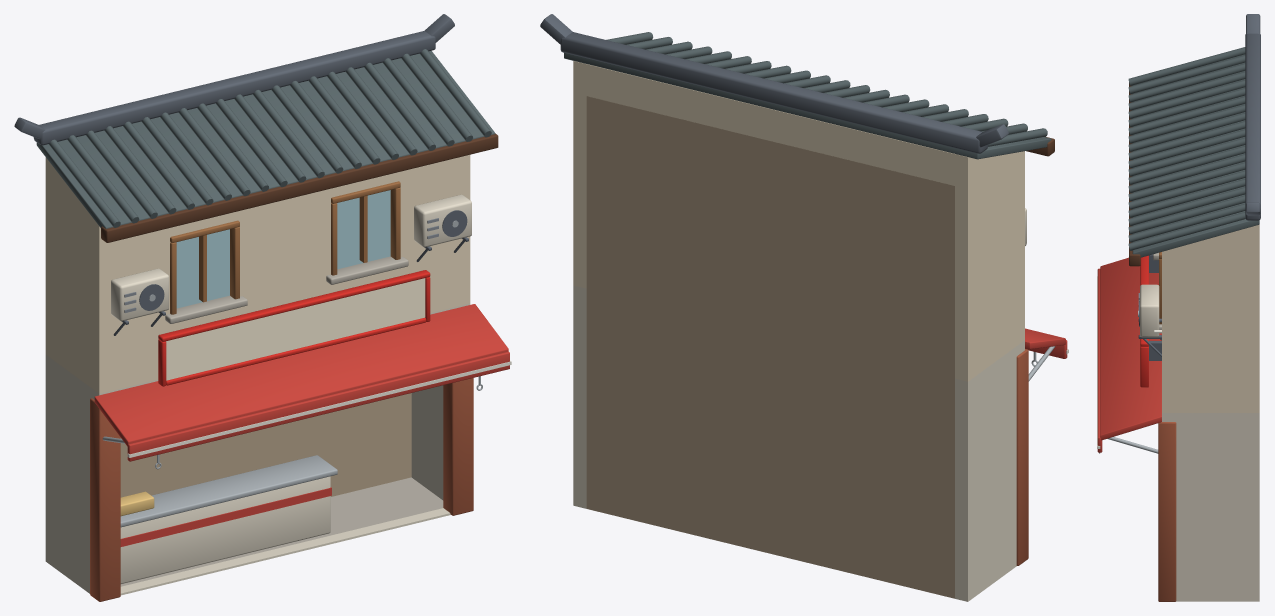
File: noodle_shop.glb
The picture shows the model from 3 angles, left to right: view 1: azimuth 30°, elevation 25°; view 2: azimuth 150°, elevation 25°; view 3: azimuth 270°, elevation 25°; orthographic projection. The views are drawn at different scales.
Parts seen in each view (by area): view 1: noodle_shop; view 2: noodle_shop; view 3: noodle_shop.
Part boxes in pixels (<box>): noodle_shop: <box>14,14,511,601</box>; noodle_shop: <box>540,14,1068,601</box>; noodle_shop: <box>1097,14,1260,601</box>.
Size of the model in its own units: 7.03 by 6.97 by 2.52.
